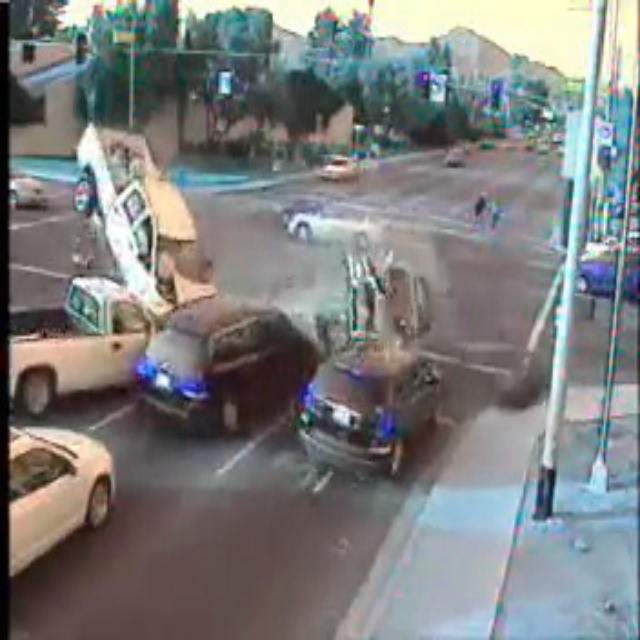acc: (11, 113, 430, 469)
